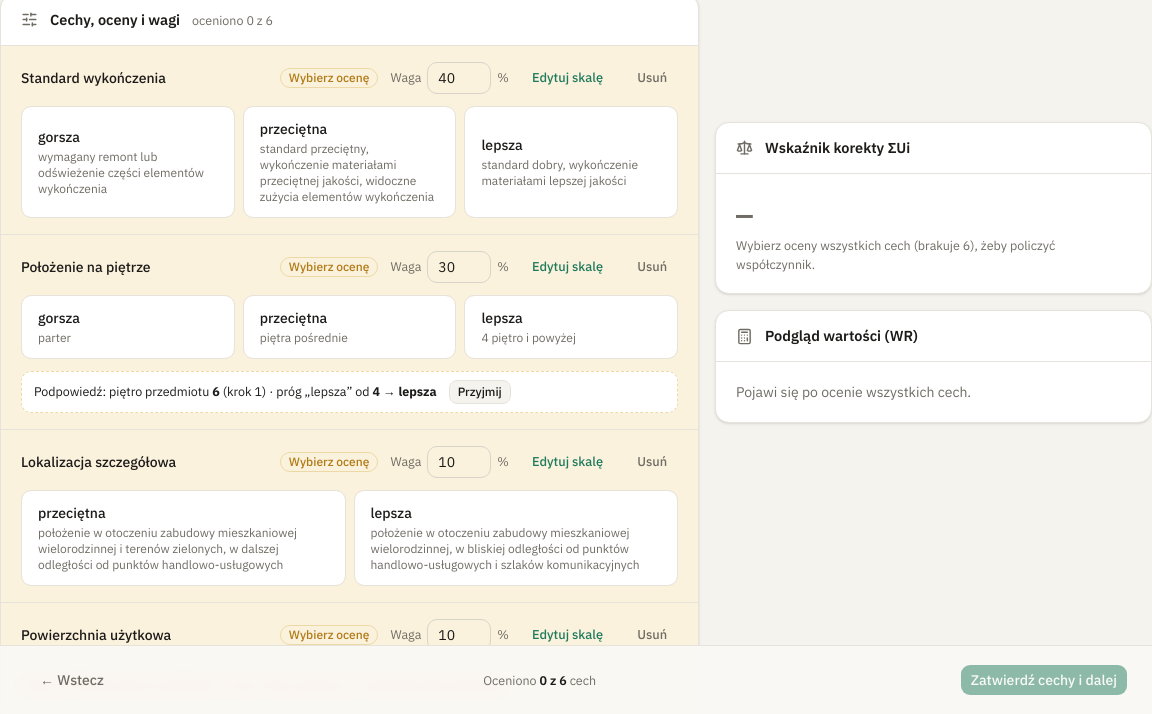
Test: StepFeatures — progi odłączone przez edycję tekstu (PR-4, makieta 8) › piętro: ręczna edycja tekstu pokazuje notatkę (bez mediany), „Przywróć” zdejmuje ją i wraca do progów presetu
The image size is (1152, 714).
Click the button "Edytuj skalę" in the row of "Położenie na piętrze" at {"x": 568, "y": 267}, box [521, 253, 614, 281]
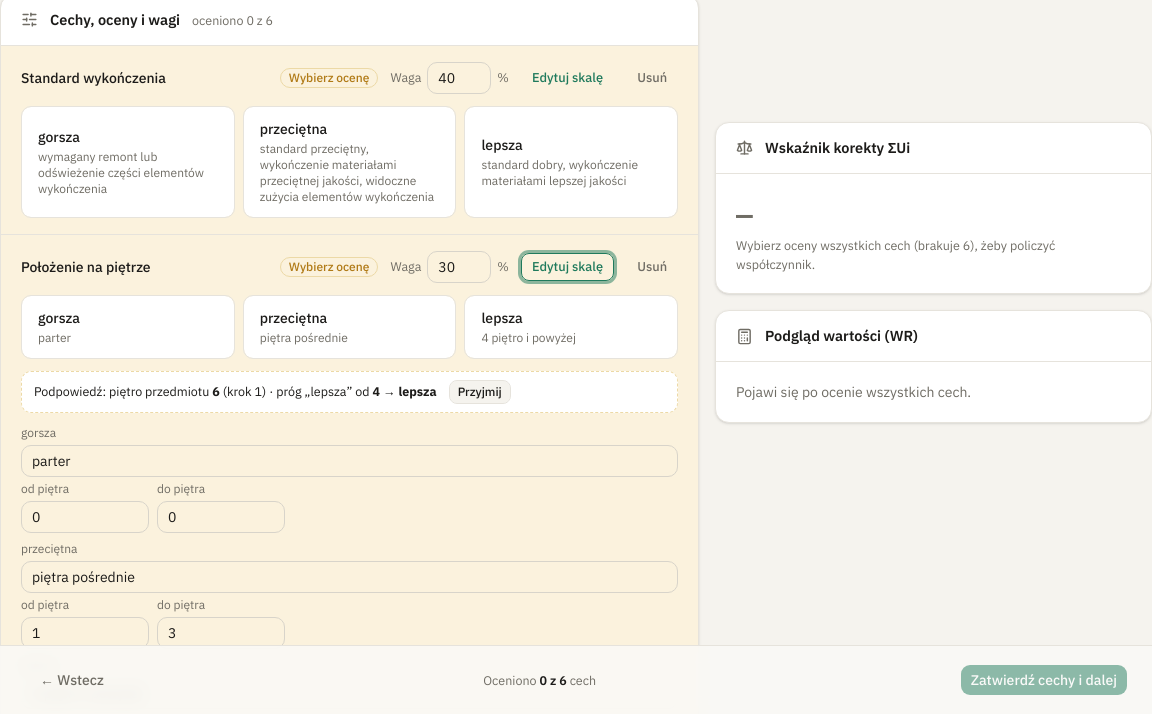
Type " i suterena" into the field with test id "feature-def-polozenie-na-pietrze-gorsza" at {"x": 350, "y": 461}, box [21, 445, 678, 477]
(page scrolled)
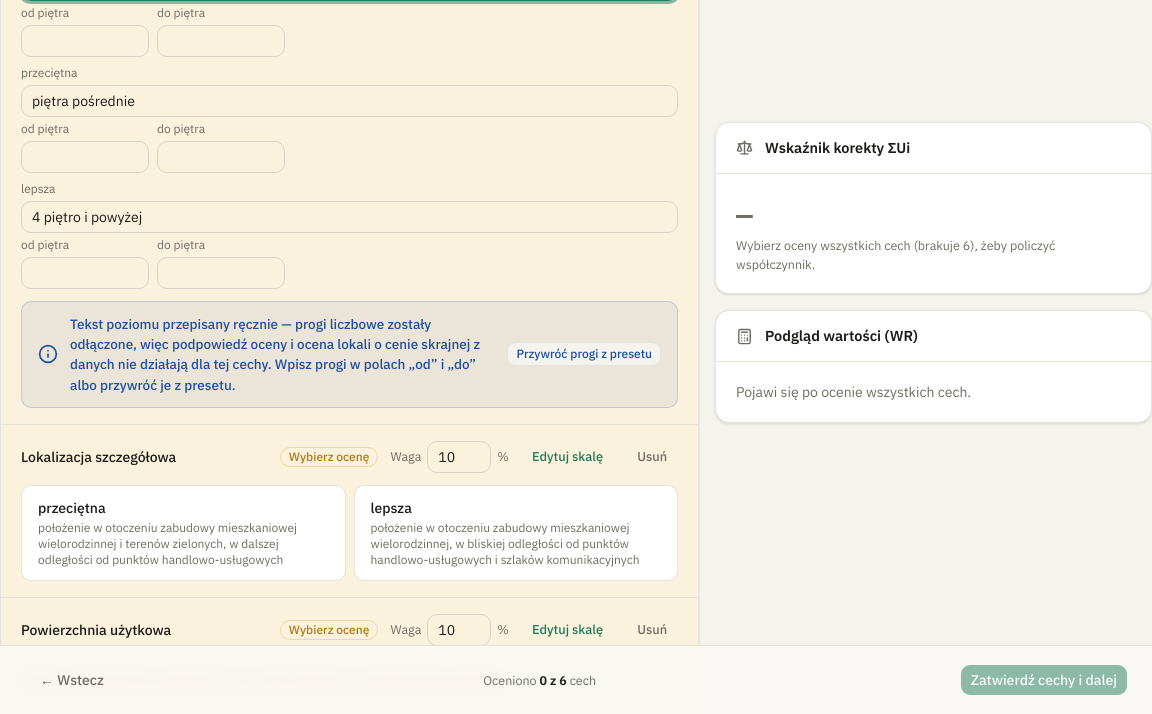
Expected: the element with test id "threshold-hint-polozenie-na-pietrze" is gone
Click the button "Przywróć progi z presetu" at {"x": 584, "y": 354}, box [508, 342, 661, 366]
(page scrolled)
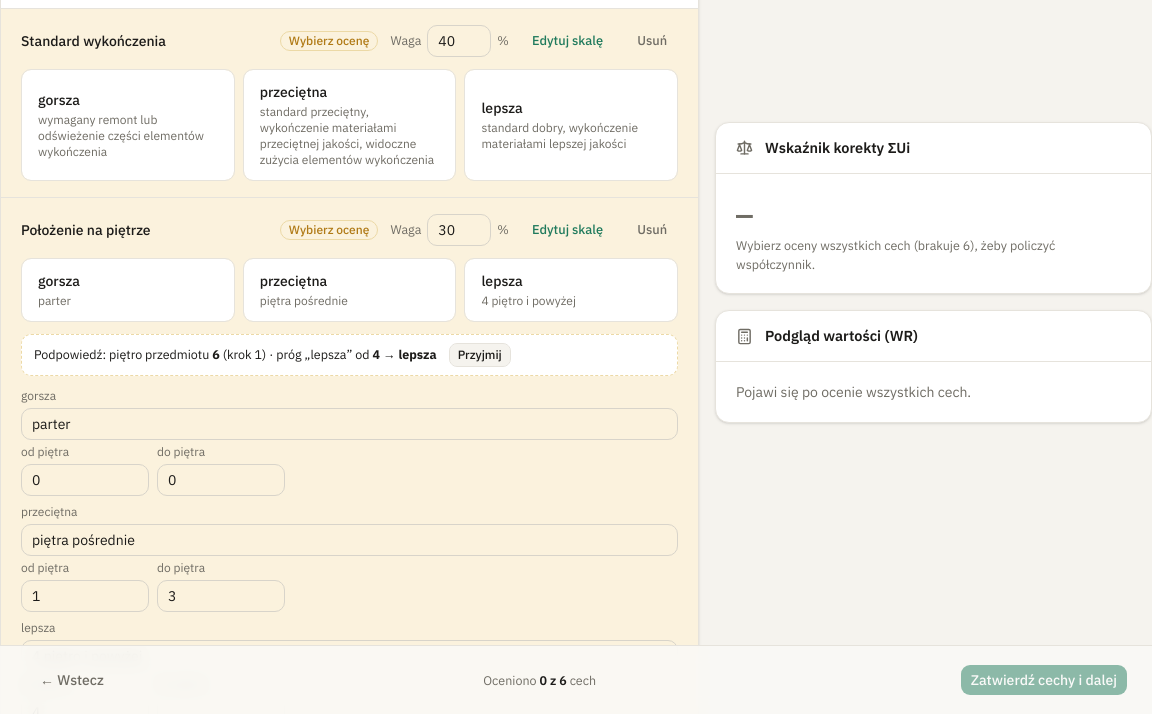
Expected: the element with test id "threshold-hint-polozenie-na-pietrze" is shown, [21, 334, 678, 376]
